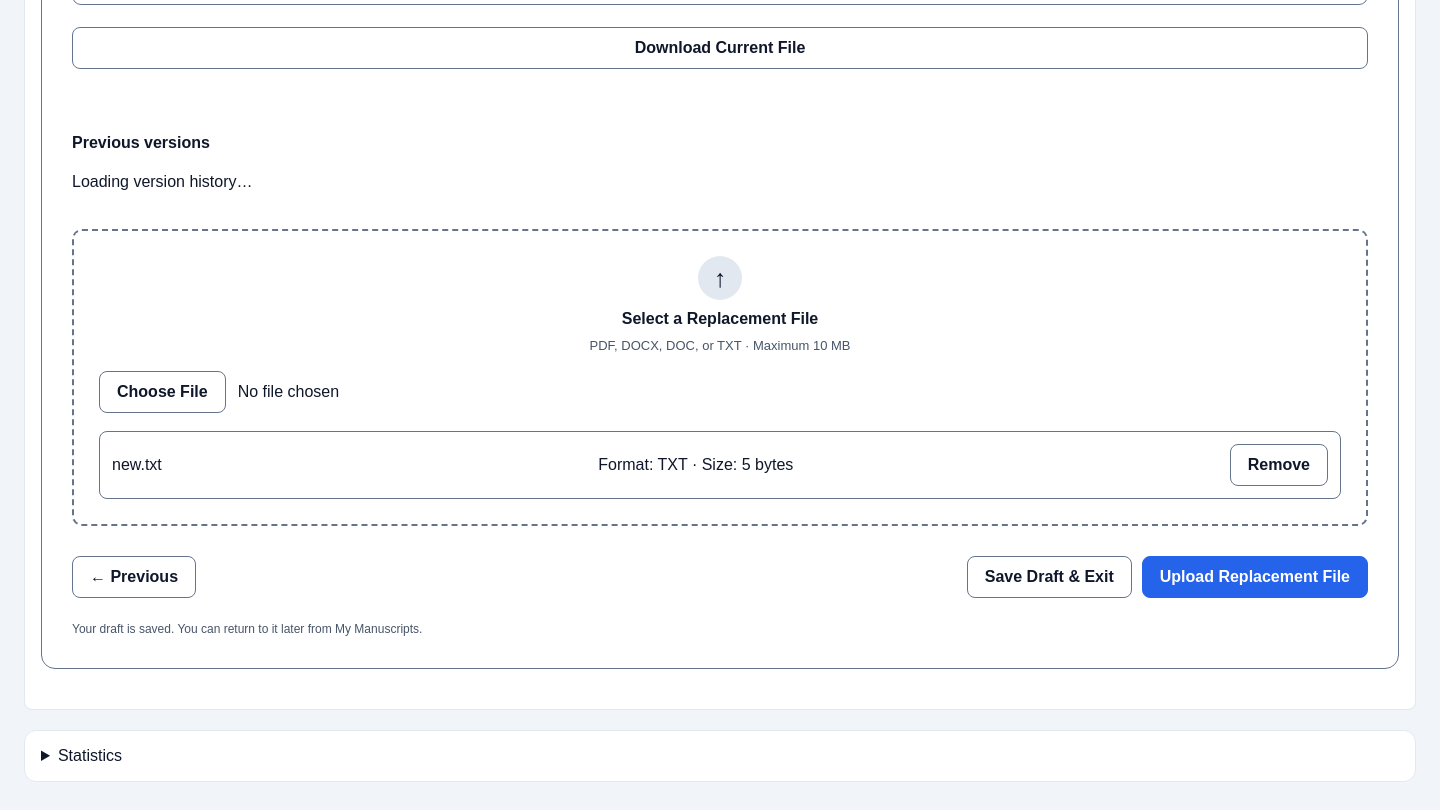
Test: keeps wizard information and blocks duplicate upload while busy
Earlier steps of the test are not shown.
Later steps or results of the test are not shown.
(page scrolled)
Click the button "Upload Replacement File": coordinates (1255, 577) x1=1142 y1=556 x2=1368 y2=598
(page scrolled)
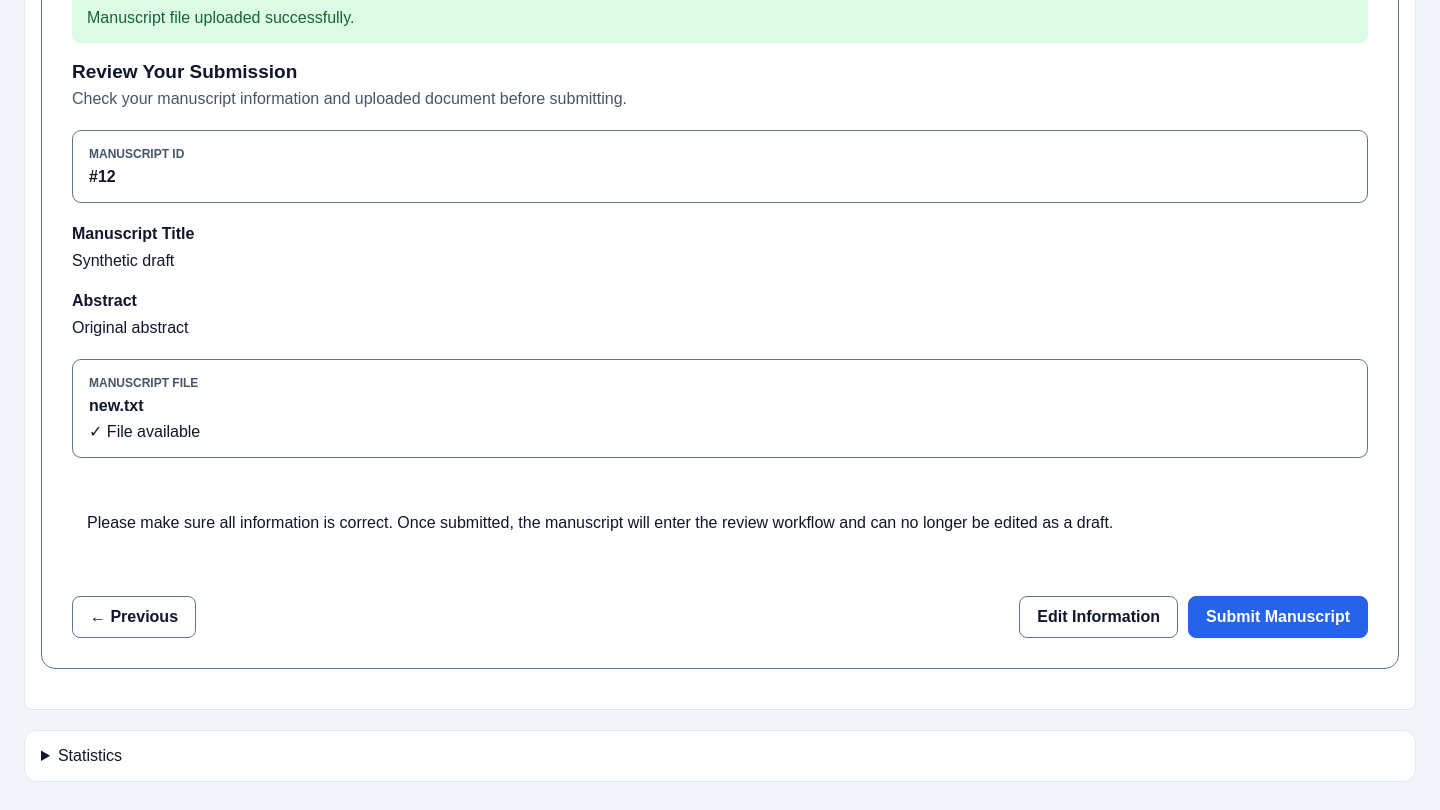
Expected: the text "Synthetic draft" is shown, x1=72 y1=252 x2=174 y2=269
Result: the heading "Review Your Submission" is shown at x1=72 y1=61 x2=297 y2=82
Result: the text "Original abstract" is shown at x1=72 y1=319 x2=188 y2=336
